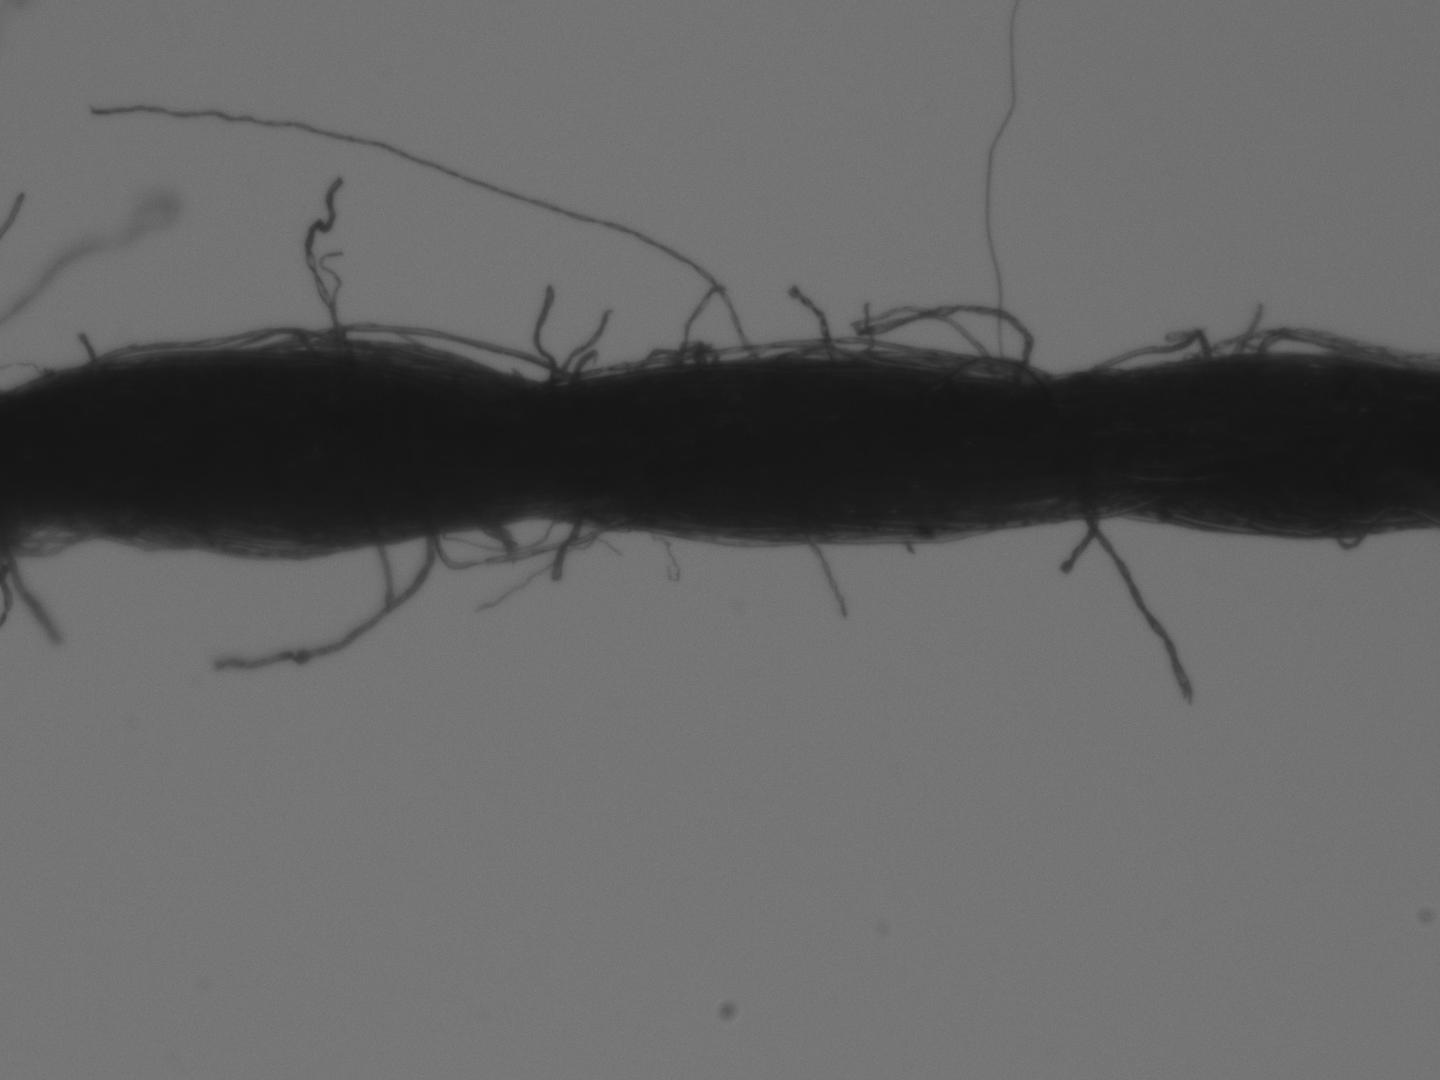loop_fiber: (582, 338, 988, 376), (329, 320, 570, 381), (433, 520, 596, 576), (1202, 328, 1428, 368), (1078, 328, 1215, 378), (751, 339, 859, 365), (215, 327, 304, 356), (955, 353, 1031, 382), (15, 529, 83, 557), (1264, 331, 1338, 356), (630, 348, 681, 372), (670, 345, 712, 368), (1328, 533, 1363, 554)
protruding_fiber: (91, 107, 752, 357), (213, 539, 435, 673), (1078, 509, 1186, 697), (304, 180, 346, 345), (686, 279, 730, 361), (807, 538, 849, 615), (1059, 496, 1100, 572), (794, 286, 829, 361), (532, 290, 554, 378)
